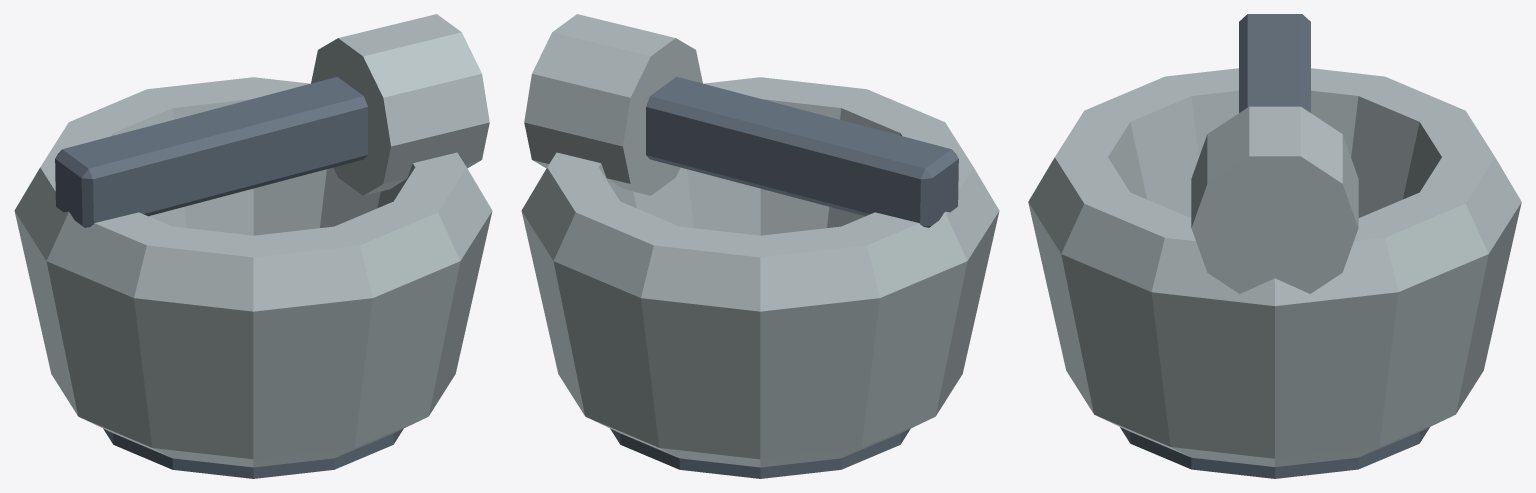
File: 08_Mortar_and_Pestle.glb
3 views of the same model, side by side, from view 1: azimuth 30°, elevation 25°; view 2: azimuth 150°, elevation 25°; view 3: azimuth 270°, elevation 25° (orthographic). The views are drawn at different scales.
Visible parts, largest first — view 1: 08_Mortar_and_Pestle__Body; view 2: 08_Mortar_and_Pestle__Body; view 3: 08_Mortar_and_Pestle__Body.
Part boxes in pixels (x1,y1,x2,y2): 08_Mortar_and_Pestle__Body: [14, 14, 492, 478]; 08_Mortar_and_Pestle__Body: [521, 14, 999, 478]; 08_Mortar_and_Pestle__Body: [1028, 14, 1521, 478].
Size of the model in its own units: 1.3 by 1.02 by 1.3.
Materials: 1 (1 with a texture image).
